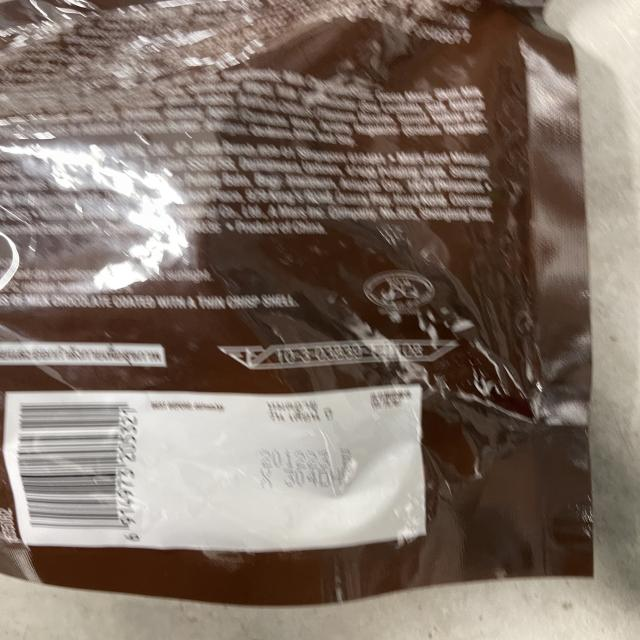object_name: (0, 5, 595, 589)
